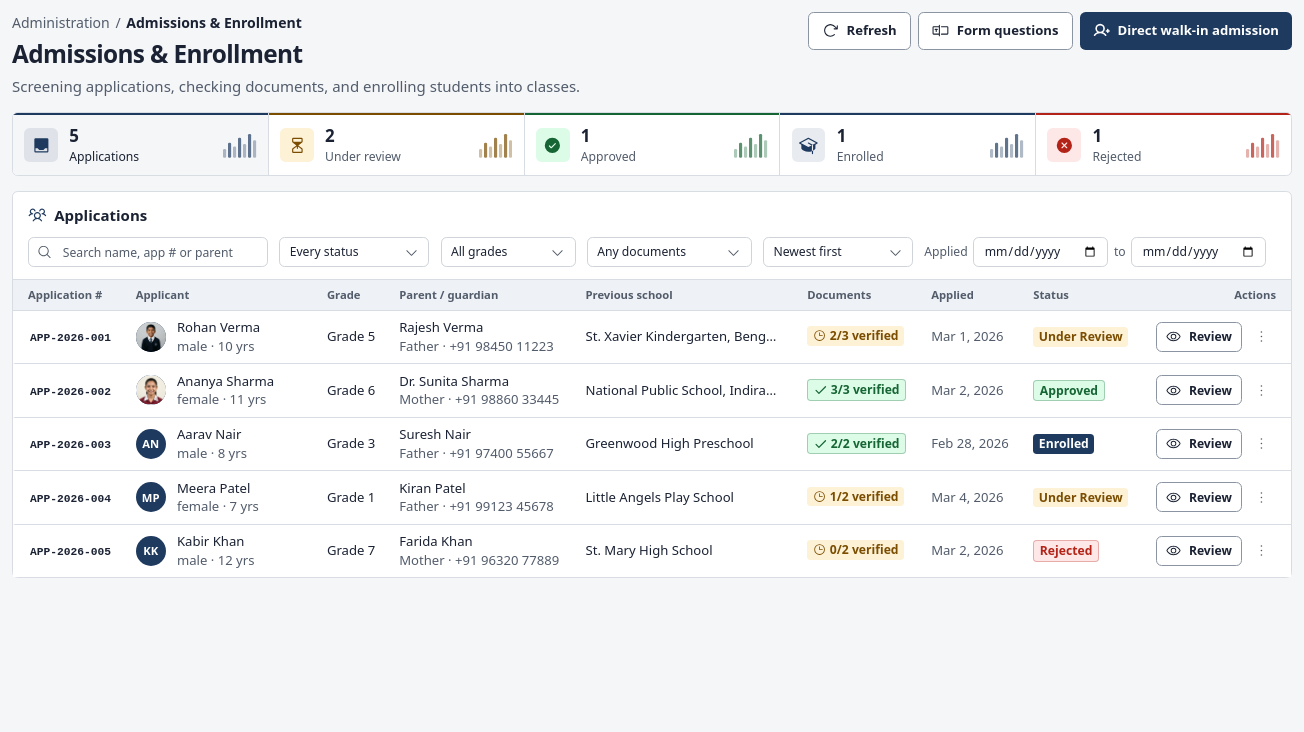
Test case: AdmissionsEnrollmentPage › filters applications when searching by applicant name
Expected: the text "APP-2026-001" is shown, x1=30 y1=332 x2=111 y2=344
Step 1. Type "Ananya" into the search field with placeholder "Search name, app # or parent" → [148, 252], box x1=28 y1=237 x2=268 y2=267
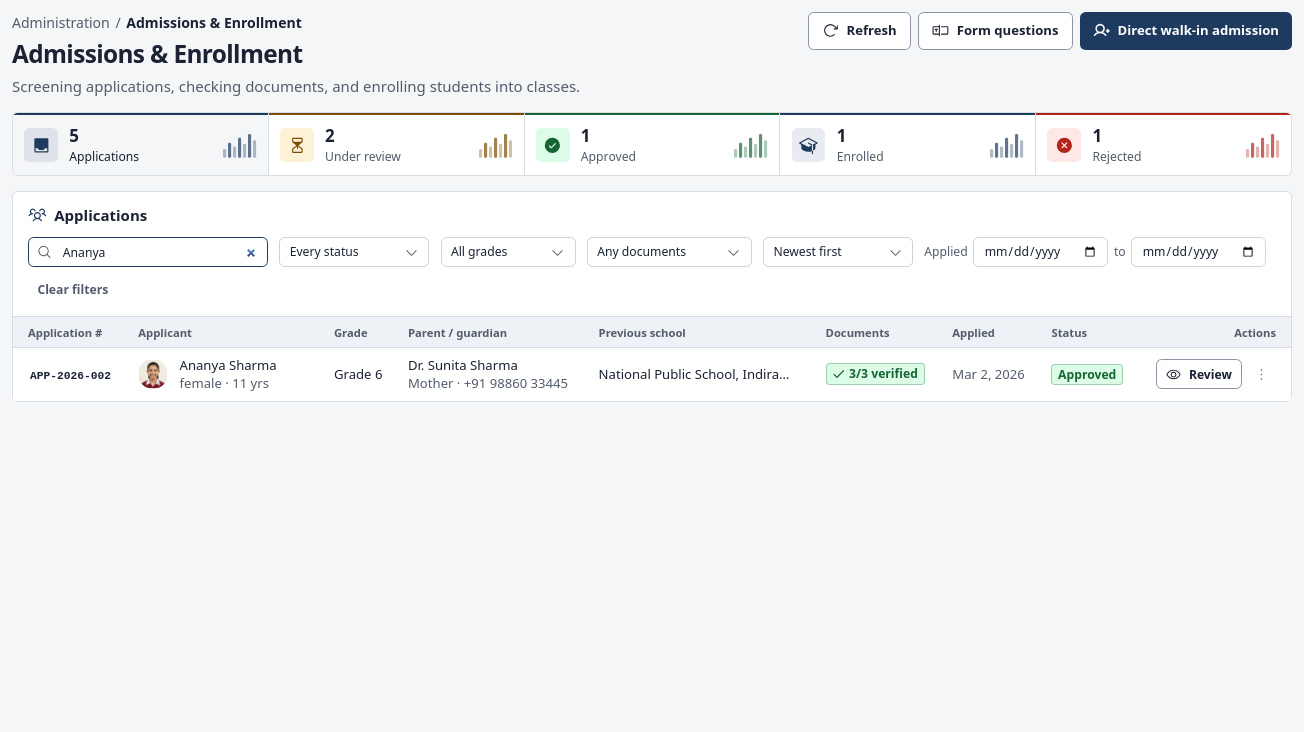
Expected: the text "APP-2026-002" is shown, x1=30 y1=370 x2=111 y2=382
Now the text "APP-2026-001" is gone
